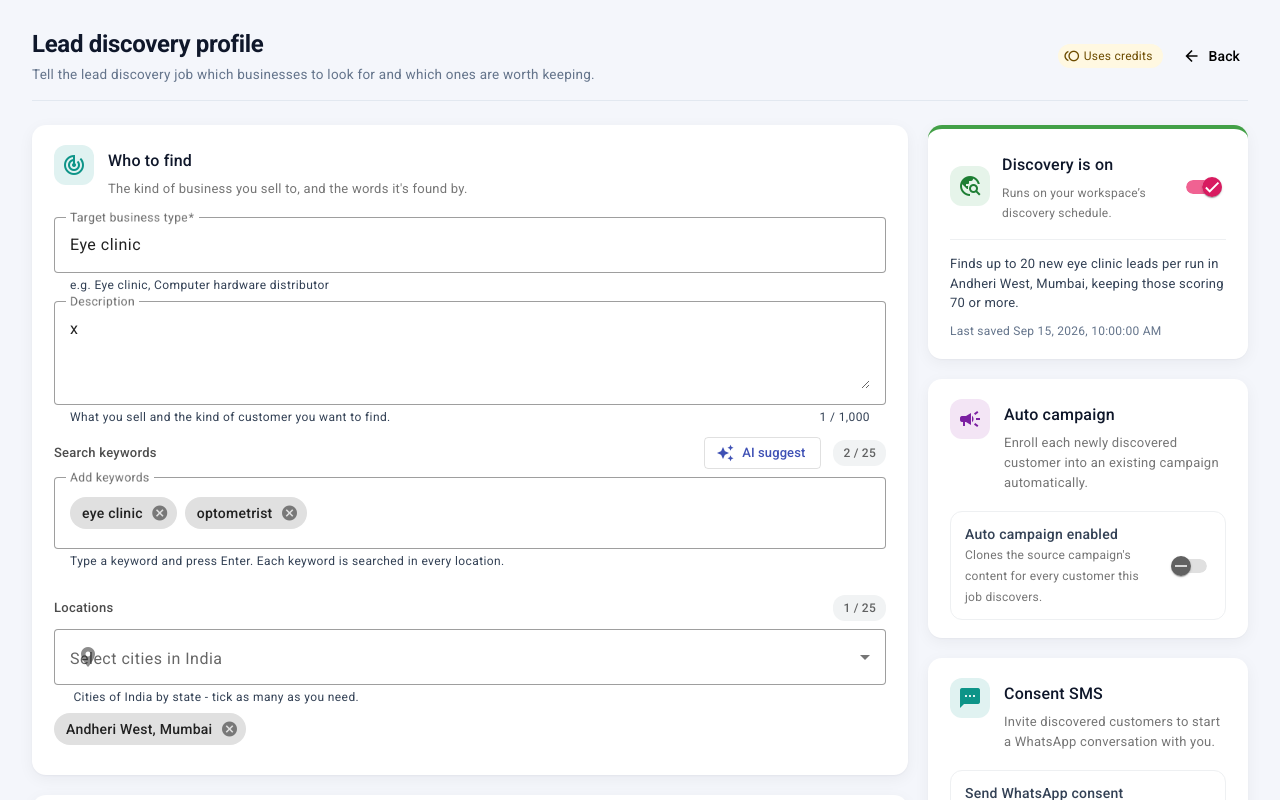
Test case: LeadDiscoveryProfileComponent › AI suggest for the keywords › says plainly when the suggestions were not written by AI
Click the button with class "suggest-button" at (763, 453), box [704, 437, 821, 469]
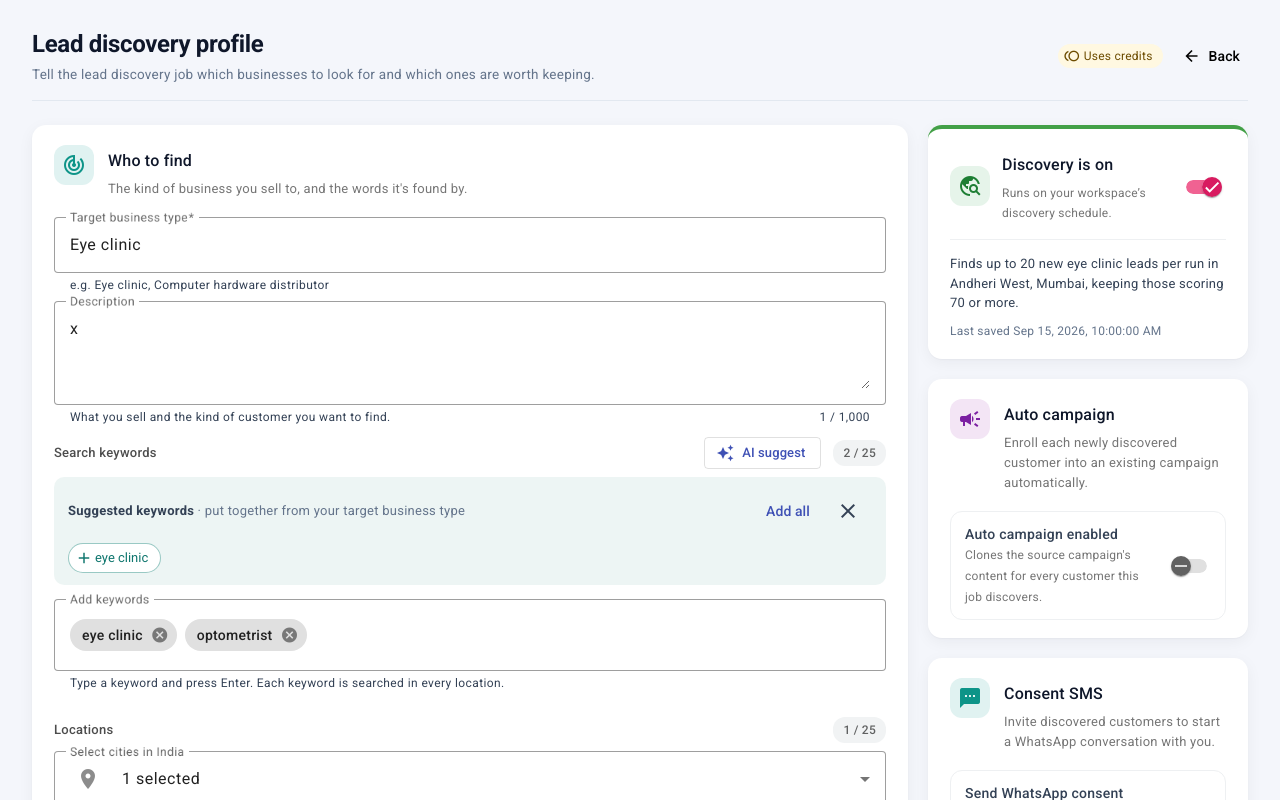
expect the text "put together from your target business type" is shown: met, box [194, 503, 465, 518]
